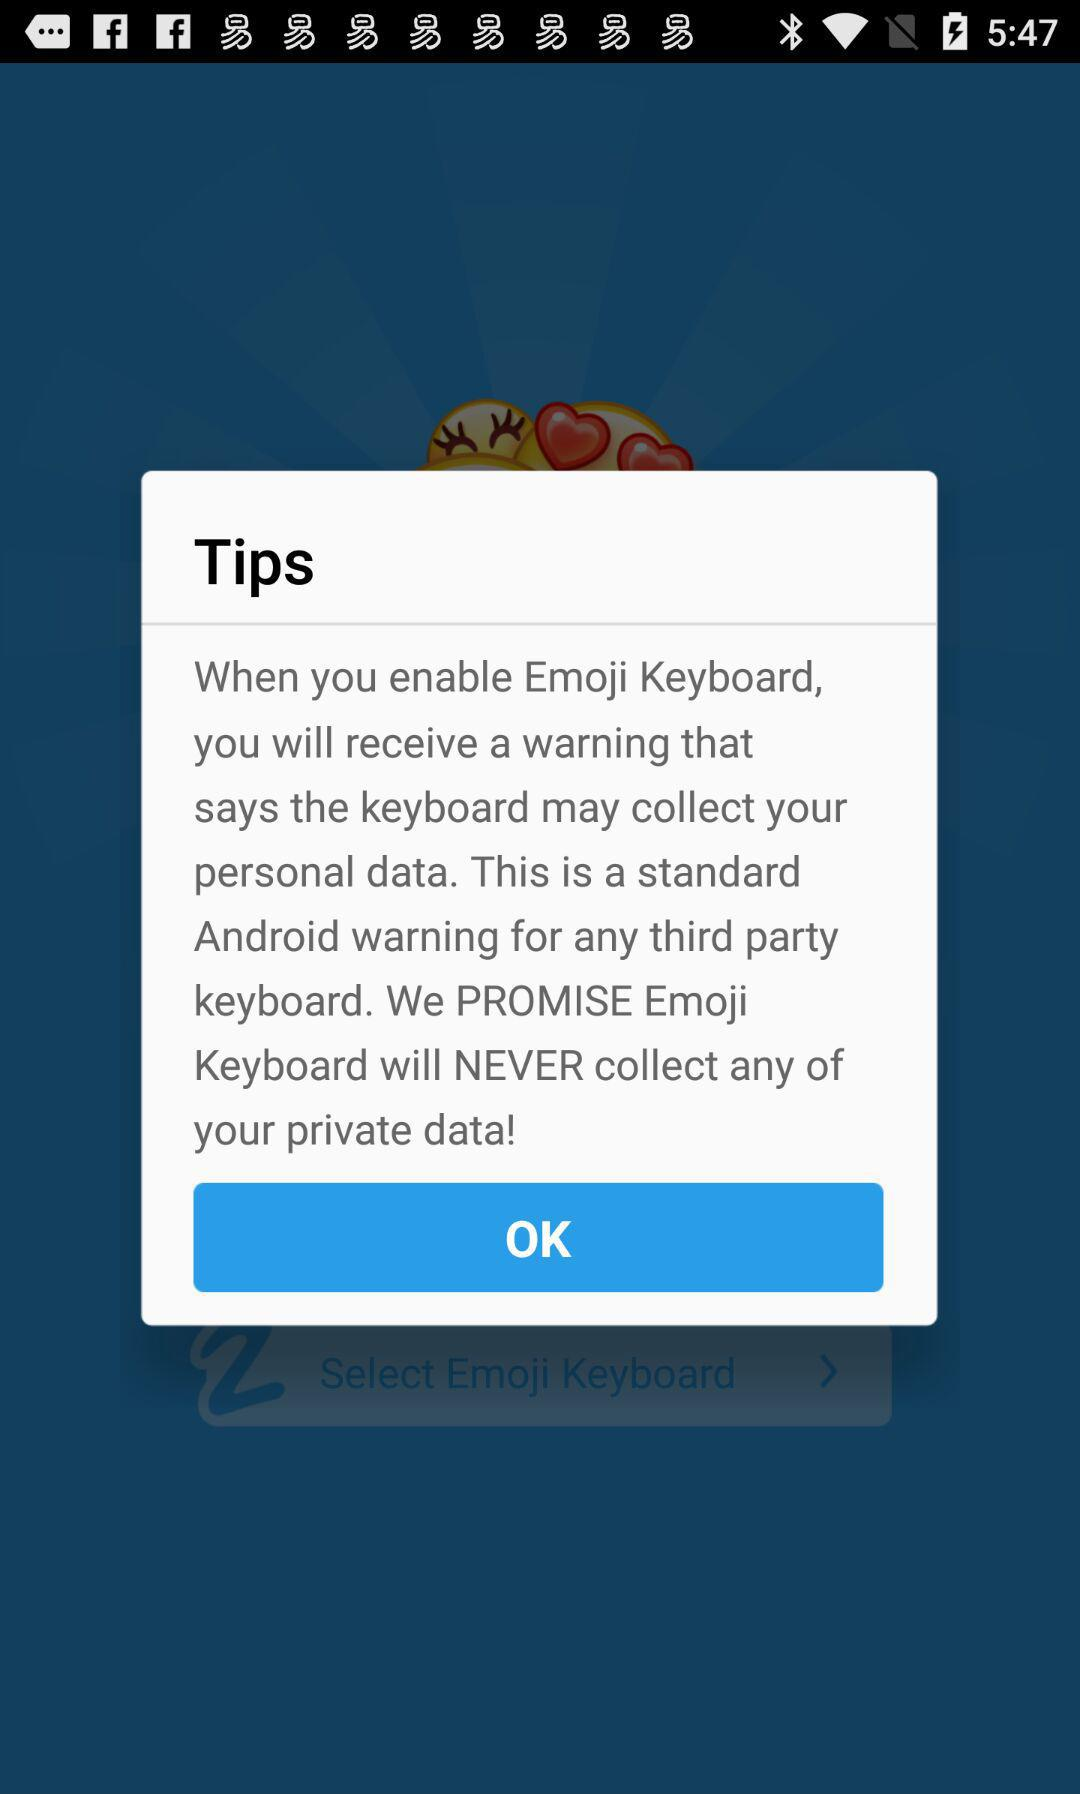Modal: (141, 472, 939, 1328)
Text: (192, 659, 848, 1156), (193, 538, 315, 600)
TextButton: (193, 1181, 884, 1293)
UpperTaskBar: (1, 1, 1080, 64)
